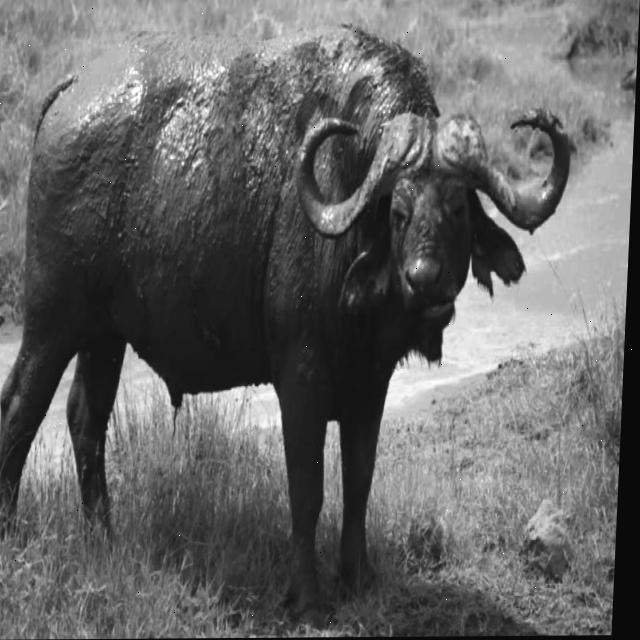Buffalo: (0, 18, 580, 626)
